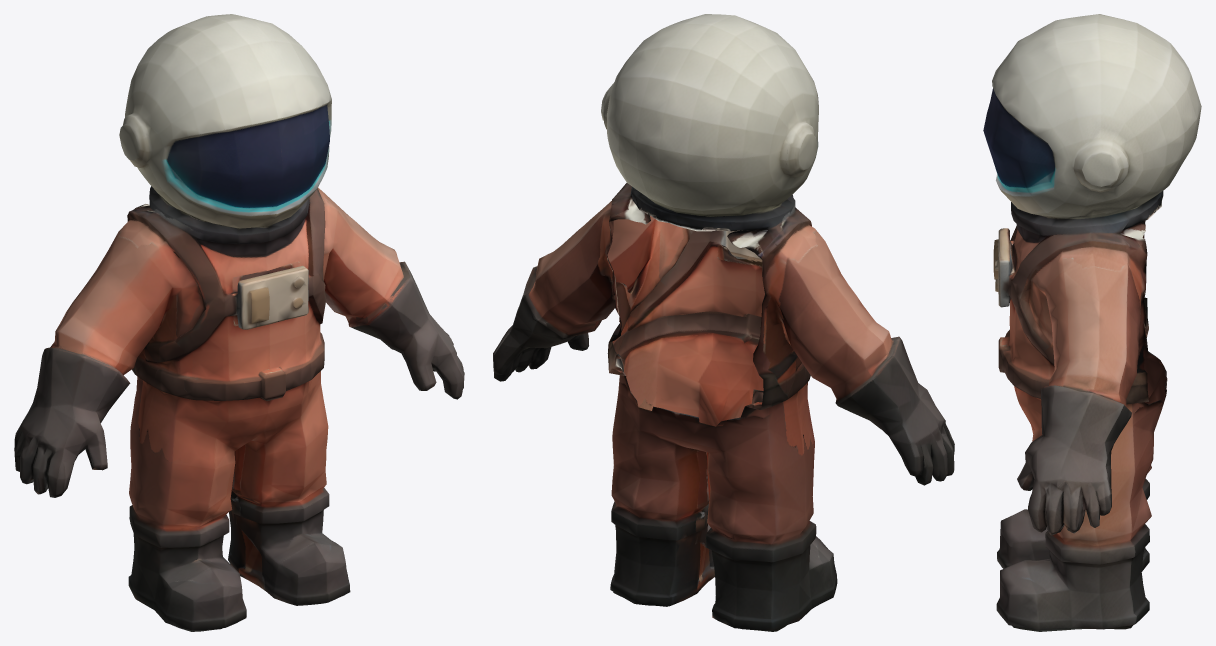
Rendered from explorador-sem-mochila.glb.
The picture shows the model from 3 angles, left to right: view 1: azimuth 30°, elevation 25°; view 2: azimuth 150°, elevation 25°; view 3: azimuth 270°, elevation 25°; orthographic projection. The views are drawn at different scales.
Parts seen in each view (by area): view 1: ExploradorAstronauta; view 2: ExploradorAstronauta; view 3: ExploradorAstronauta.
Boxes of the visible parts, box(x1,y1,x2,y2) form: ExploradorAstronauta: box(14, 14, 464, 631); ExploradorAstronauta: box(493, 14, 954, 631); ExploradorAstronauta: box(983, 14, 1201, 631).
Bounding box in the file's own units: 1.22 × 1.5 × 0.5216.
1 material, 1 textured.
